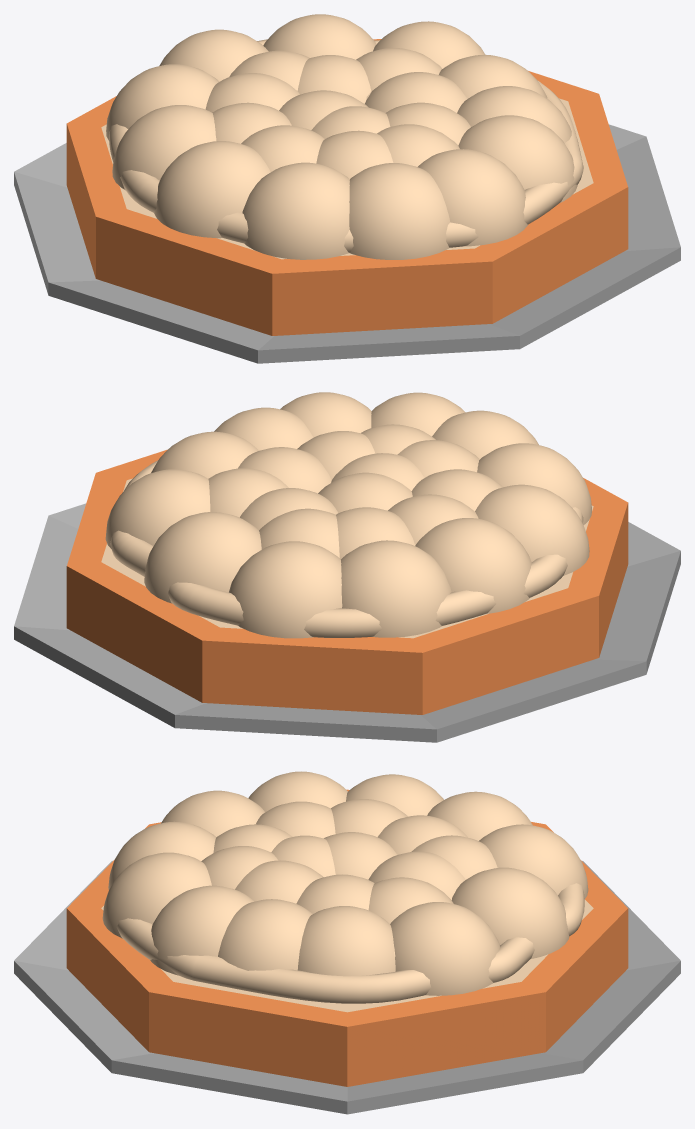
The model's file is pie.fbx.
The picture shows the model from 3 angles, top to bottom: view 1: azimuth 30°, elevation 25°; view 2: azimuth 150°, elevation 25°; view 3: azimuth 270°, elevation 25°; orthographic projection. The views are drawn at different scales.
Parts seen in each view (by area): view 1: 円柱, 円, 球.007, 球.006, 球.008, 球.019, 球.005, ベジエカーブ, 球.009, 球.010, 球.001, 球 (+16 smaller); view 2: 円柱, 円, 球, ベジエカーブ, 球.010, 球.001, 球.009, 球.008, 球.002, 球.007, 球.003, 球.006 (+16 smaller); view 3: 円柱, 円, ベジエカーブ, 球.002, 球.001, 球.003, 球.004, 球.005, 球.019, 球, 球.006, 球.010 (+16 smaller).
Part boxes in pixels (x1,y1,x2,y2): 円柱: (66,39,628,335); 円: (14,124,680,363); 球.007: (242,162,349,259); 球.006: (349,163,450,259); 球.008: (154,141,270,238); 球.019: (418,149,528,246); 球.005: (458,115,577,202); ベジエカーブ: (109,39,583,252); 球.009: (112,105,216,189); 球.010: (106,64,219,140); 球.001: (263,14,376,59); 球: (159,29,268,81); 円柱: (66,449,628,714); 円: (14,503,680,742); 球: (229,541,342,638); ベジエカーブ: (110,460,583,637); 球.010: (341,540,451,637); 球.001: (144,512,261,603); 球.009: (415,518,531,614); 球.008: (475,484,589,575); 球.002: (105,469,210,548); 球.007: (477,443,591,525); 球.003: (151,431,258,478); 球.006: (432,410,538,459); 円柱: (66,789,628,1086); 円: (14,861,680,1114); ベジエカーブ: (116,883,584,1003); 球.002: (390,902,499,995); 球.001: (451,867,569,959); 球.003: (297,906,395,976); 球.004: (218,899,312,970); 球.005: (150,885,254,975); 球.019: (102,852,211,938); 球: (479,824,588,898); 球.006: (108,821,216,889); 球.010: (427,791,532,840).
Bounding box in the file's own units: 858 × 224 × 858.
